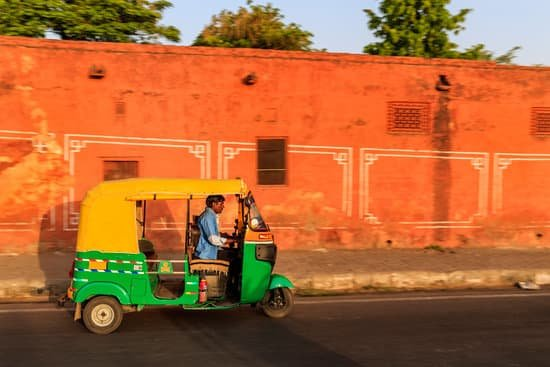threewheel: (66, 178, 295, 336)
